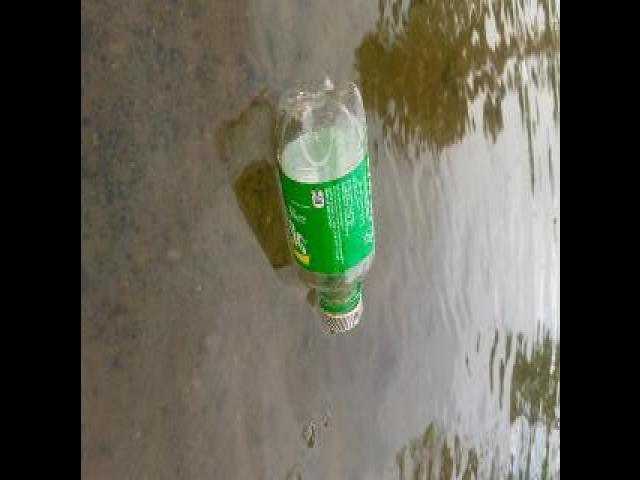Bottle: (269, 72, 382, 338)
